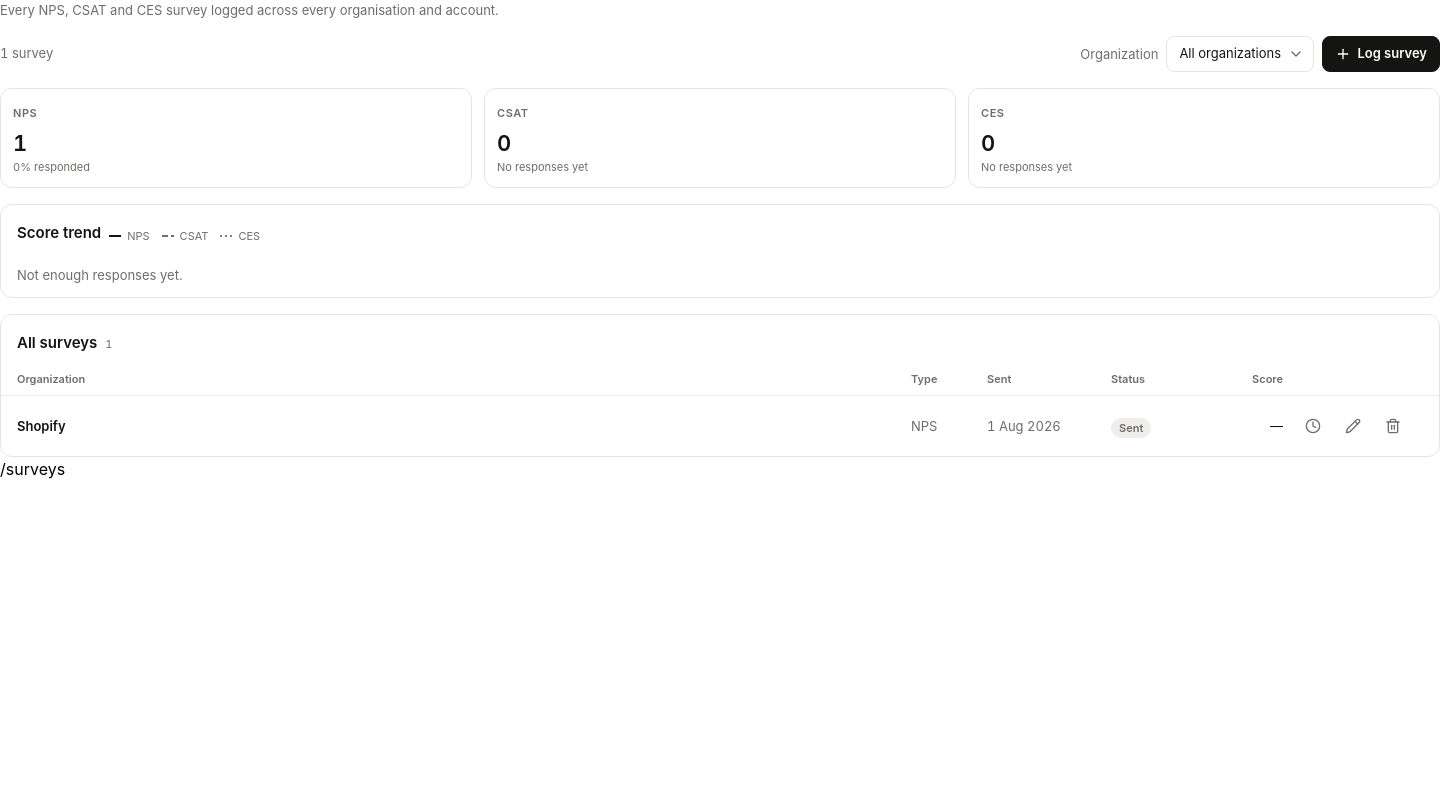
SurveysPage (/surveys) › editing a survey from the Actions column PATCHes it and updates the row, without navigating
Expected: the link "Shopify" is shown, [17,418,66,434]
Click the button named "Edit: Shopify": (1353, 426) [1335,408,1371,444]
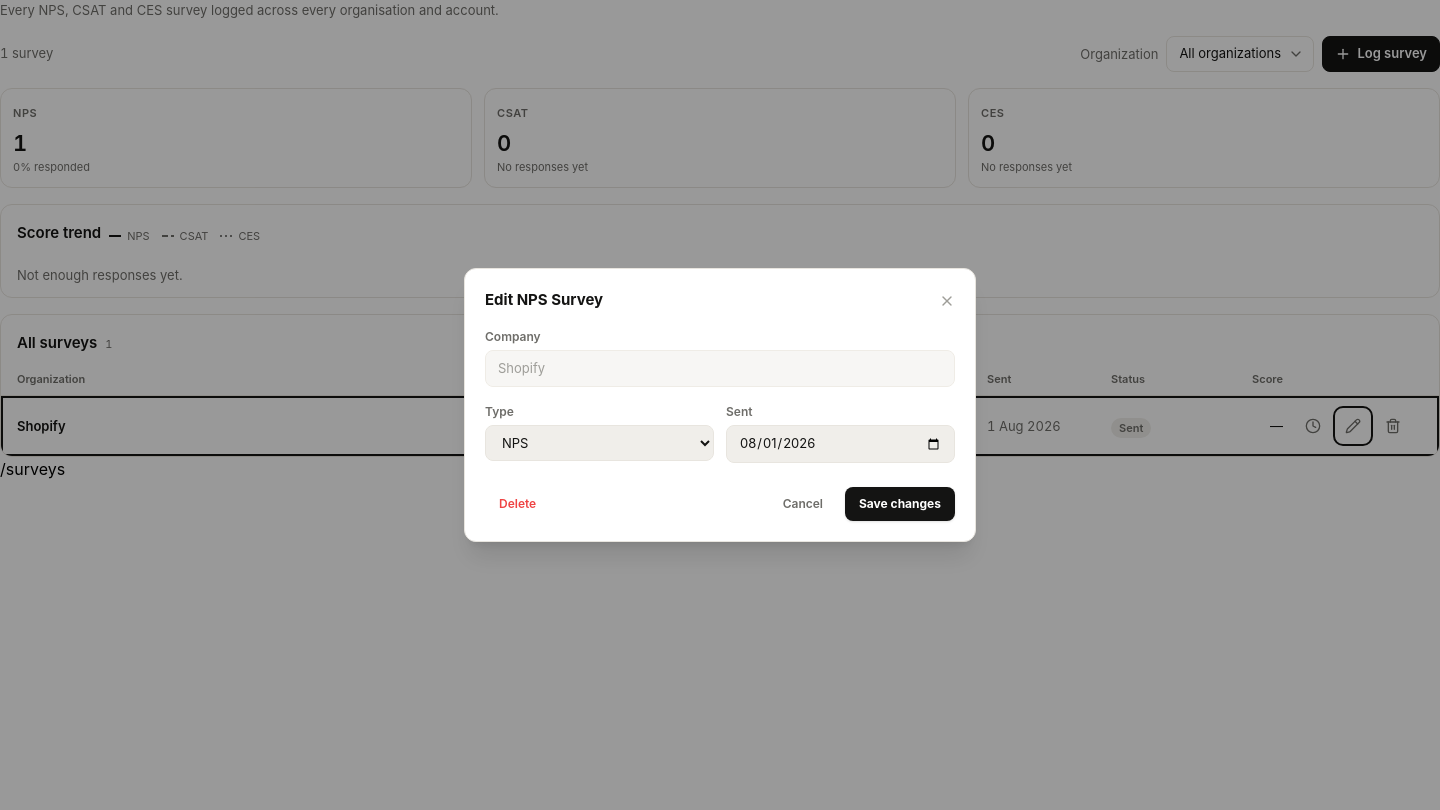
Result: the heading "Edit NPS Survey" is shown at [485,289,603,312]
In the date field showing "2026-08-01": (840, 444) [726,425,955,463], type "2026-08-10"
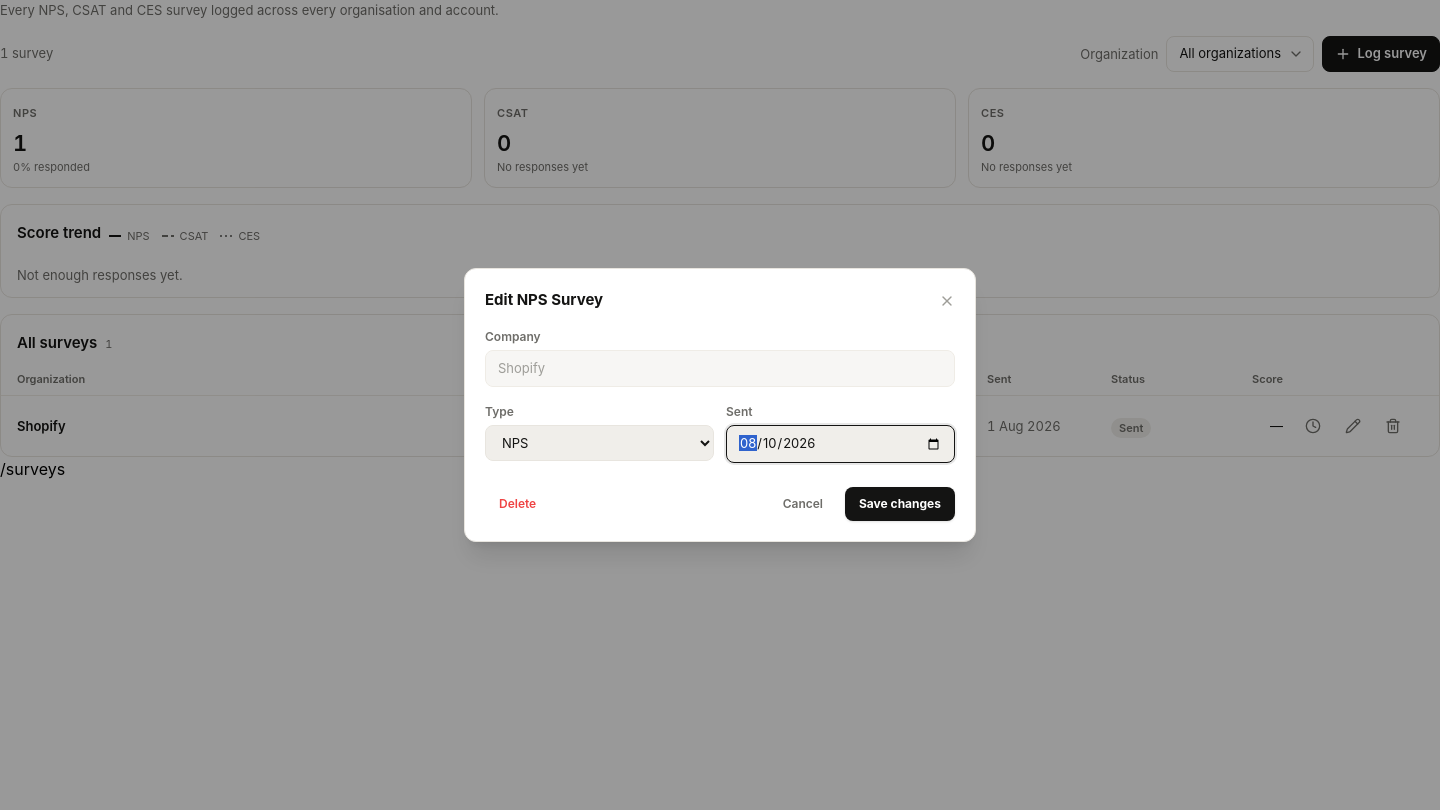
Click the button "Save changes": (900, 504) [845,487,955,521]
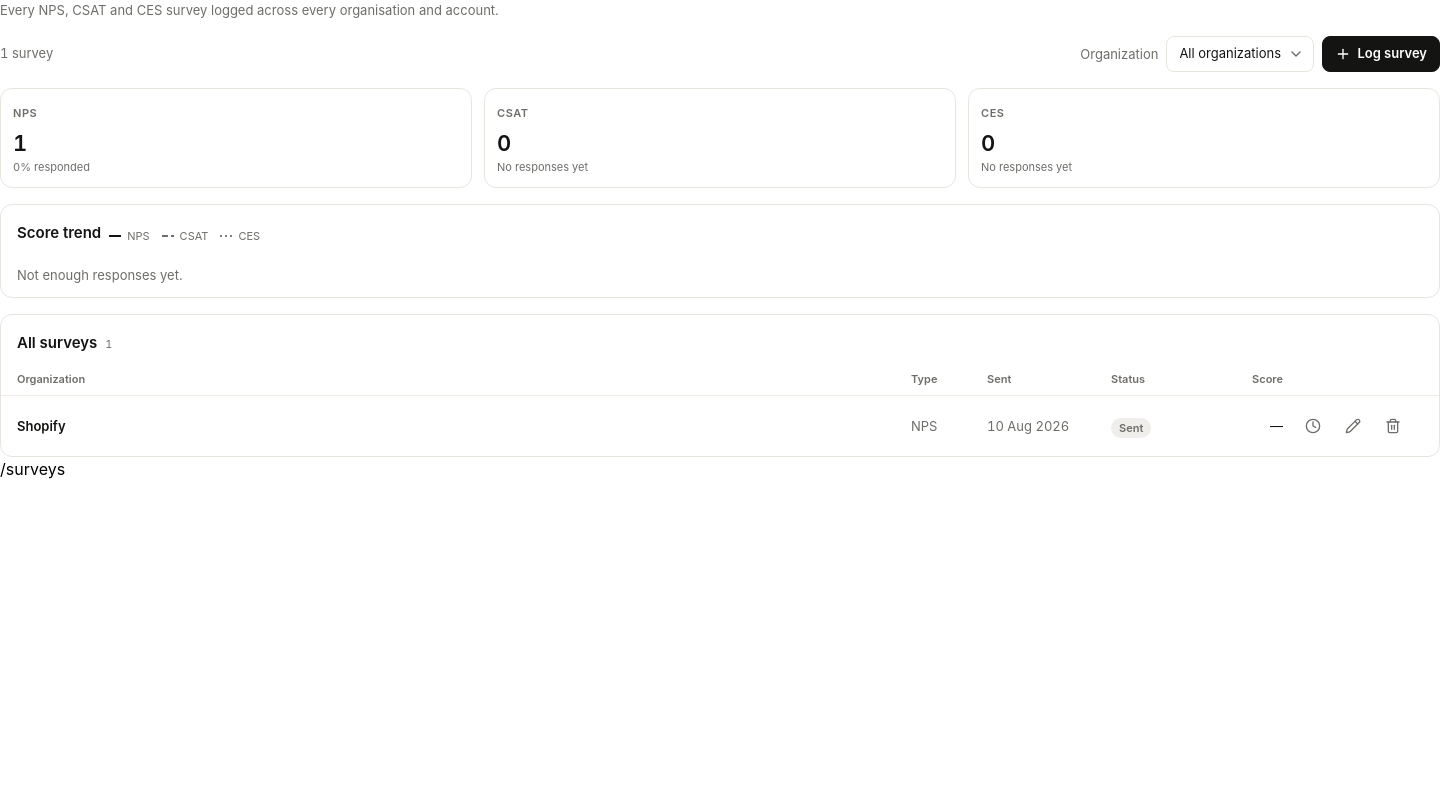
Result: the text "10 Aug 2026" is shown at [987,418,1069,434]
